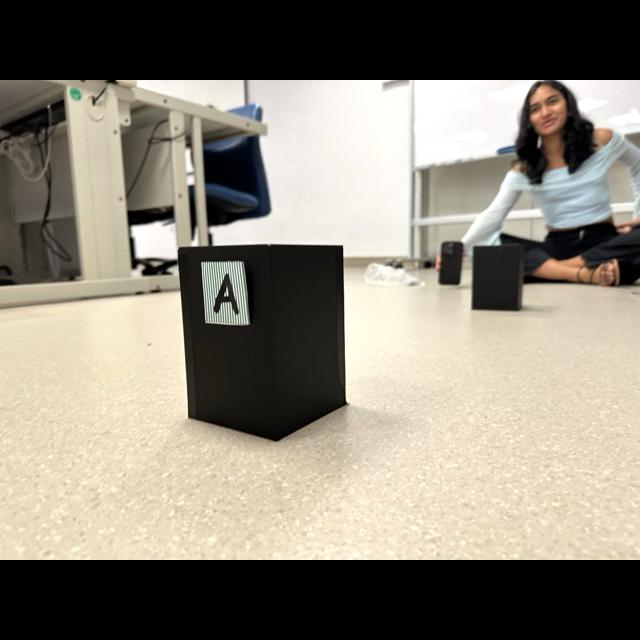A: (213, 274, 238, 314)
